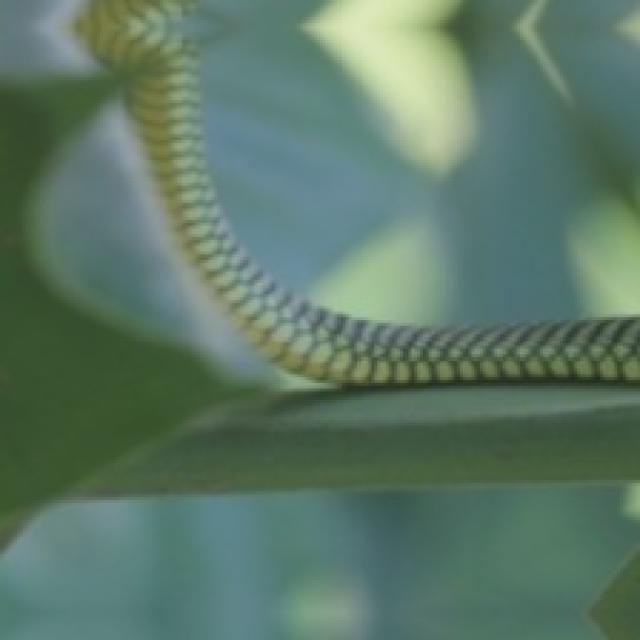paradise tree snake: (77, 0, 637, 386)
